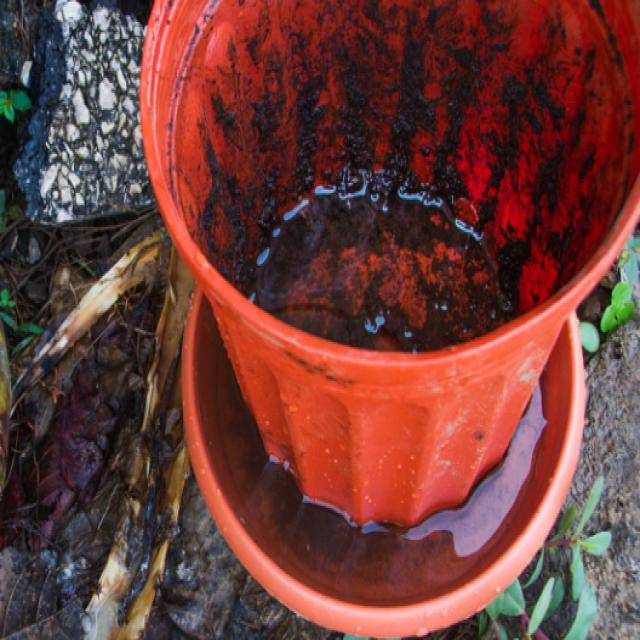Breeding Place: (141, 0, 640, 640)
